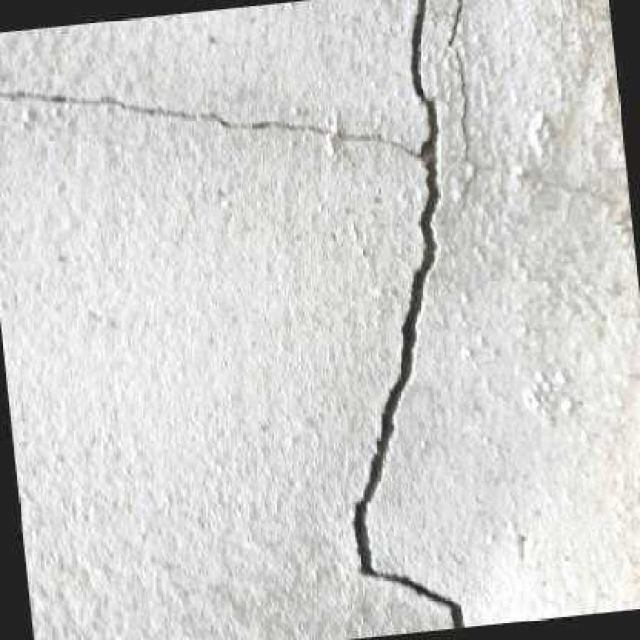D00: (0, 0, 465, 628), (446, 0, 467, 158)
